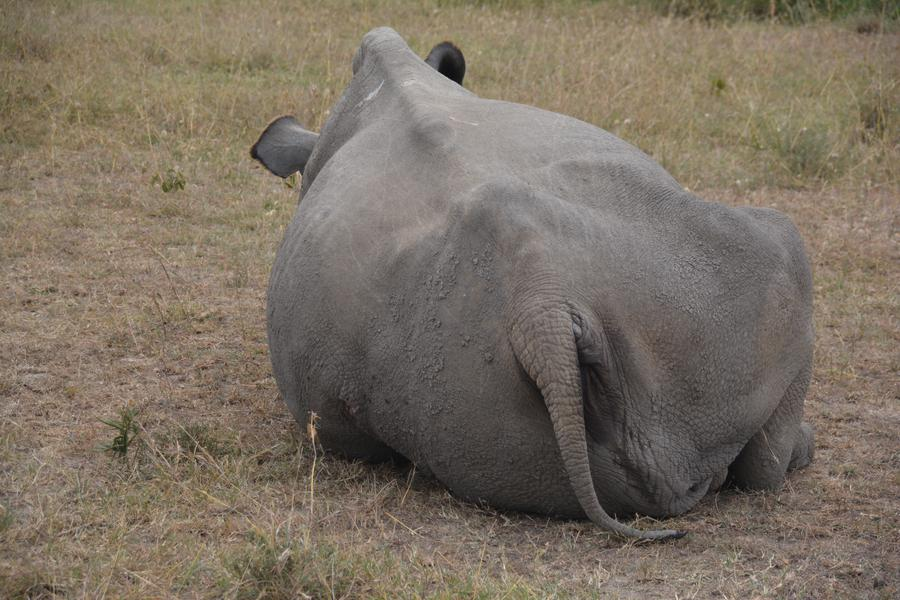rhino: (269, 18, 823, 489)
